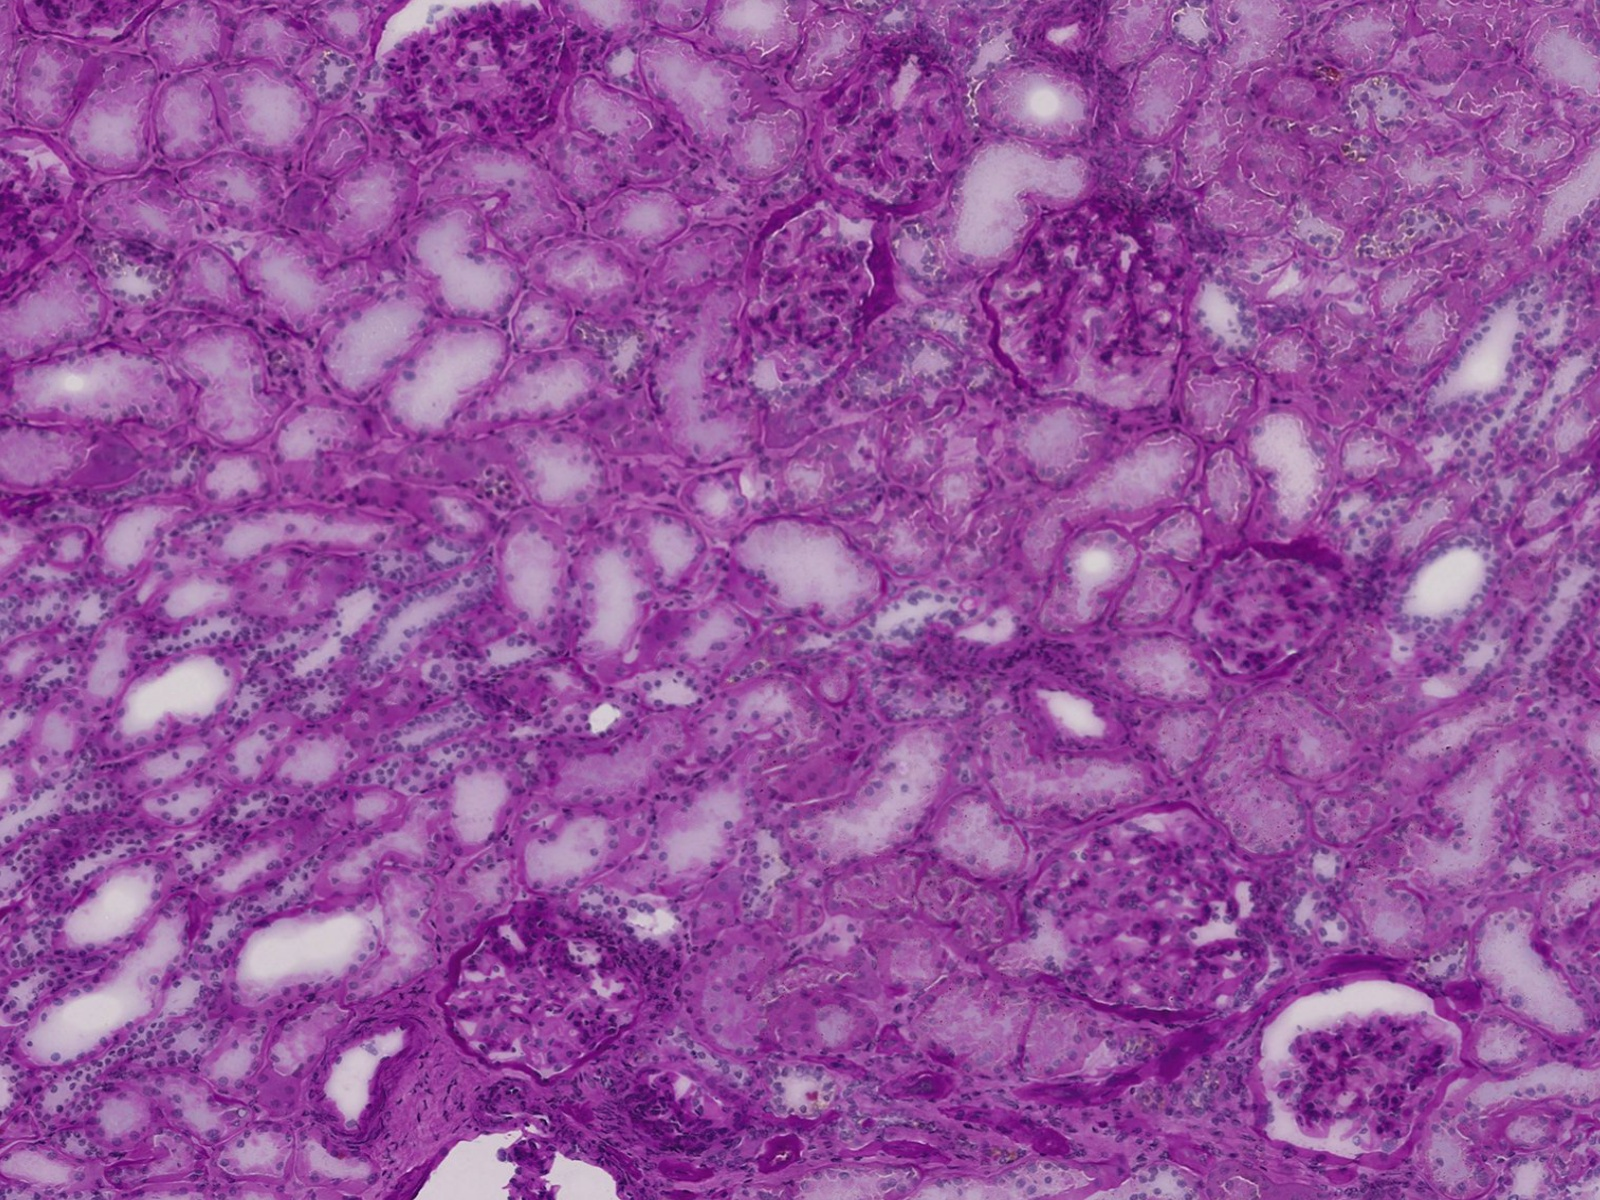Glomeruli: (1015, 795, 1293, 1024), (438, 882, 674, 1088), (983, 202, 1201, 420), (1249, 979, 1465, 1161), (716, 199, 894, 411), (354, 8, 598, 155), (801, 29, 991, 211), (1180, 534, 1351, 688), (4, 129, 86, 314), (1, 8, 163, 45)
